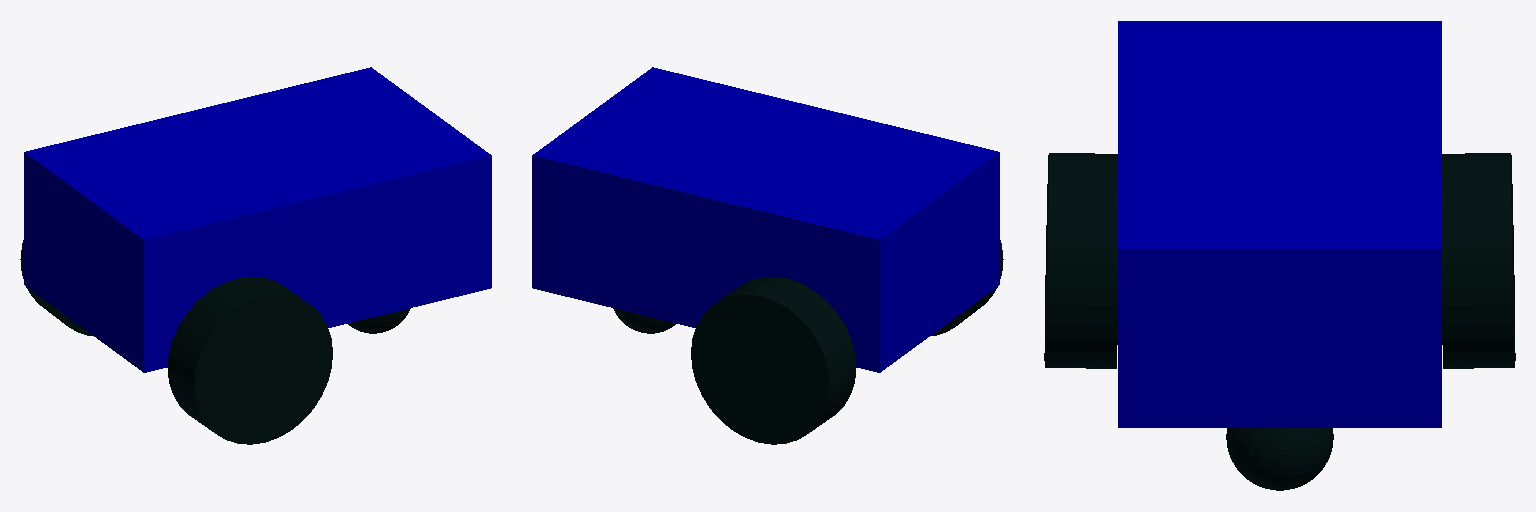
robot.urdf — optimus:
<?xml version="1.0"?>
<robot name="optimus">

    <!-- - - -  -->
    <!-- Colors -->
    <!-- - - -  -->
    <material name="blue">
        <color rgba="0 0 0.7 1" />
    </material>
    <material name="black">
        <color rgba="0.035 0.1 0.1 1" />
    </material>

    <!-- - - - - -->
    <!-- Base -->
    <!-- - - - - -->
    <link name="base_link">
        <origin xyz="0 0 0" rpy="0 0 0" />
    </link>
    
    <!-- - - - - -->
    <!-- Chassis -->
    <!-- - - - - -->
    <link name="chassis_link">
        <visual>
            <geometry>
                <box size=".3 .18 .11" />
            </geometry>
            <origin xyz="0 0 0.055" rpy="0 0 0" />
            <material name="blue" />
        </visual>
        <collision>
            <geometry>
                <box size=".3 .18 .11" />
            </geometry>
            <origin xyz="0 0 0.055" rpy="0 0 0"/>
        </collision>
    </link>
    <joint name="foot_base_joint" type="fixed">
        <parent link="base_link" />
        <child link="chassis_link"/>
        <origin xyz="0 0 0.059" rpy="0 0 0" />
    </joint>

    <!-- - - - - -  -->
    <!-- Left Wheel -->
    <!-- - - - - -  -->
    <link name="left_wheel_link">
        <visual>
            <geometry>
                <cylinder radius="0.06" length="0.04" />
            </geometry>
            <origin xyz="0 0 0" rpy="1.55 0 0" />
            <material name="black" />
        </visual>
    </link>
    <joint name="base_left_wheel_joint" type="continuous">
        <parent link="chassis_link" />
        <child link="left_wheel_link"/>
        <origin xyz="-0.07 -0.11 0" rpy="0 0 0" />
        <axis xyz="0 1 0" />
    </joint>
    
    <!-- - - - - - - -->
    <!-- Right Wheel -->
    <!-- - - - - - - -->
    <link name="right_wheel_link">
        <visual>
            <geometry>
                <cylinder radius="0.06" length="0.04" />
            </geometry>
            <origin xyz="0 0 0" rpy="-1.55 0 0" />
            <material name="black" />
        </visual>
    </link>
    <joint name="base_right_wheel_joint" type="continuous">
        <parent link="chassis_link" />
        <child link="right_wheel_link"/>
        <origin xyz="-0.07 0.11 0" rpy="0 0 0" />
        <axis xyz="0 1 0" />
    </joint>


    <!-- - - - - -  -->
    <!-- - Caster - -->
    <!-- - - - - -  -->
    <link name="caster_wheel_link">
        <visual>
            <geometry>
                <sphere radius="0.03" />
            </geometry>
            <origin xyz="0 0 0" rpy="0 0 0" />
            <material name="black" />
        </visual>
    </link>
    <joint name="base_caster_wheel_joint" type="fixed">
        <parent link="chassis_link" />
        <child link="caster_wheel_link"/>
        <origin xyz=".1 0 -.029" rpy="0 0 0" />
    </joint>
</robot>

--- What the picture shows (computed from the rendered views, not written in the file) ---
Views: 3 orthographic renders of the robot side by side, from view 1: azimuth 30°, elevation 25°; view 2: azimuth 150°, elevation 25°; view 3: azimuth 270°, elevation 25°.
Model optimus with 5 links and 4 joints (2 continuous, 2 fixed), rooted at base_link, posed every joint at zero.
Visible links, largest first — view 1: chassis_link, left_wheel_link, caster_wheel_link, right_wheel_link; view 2: chassis_link, right_wheel_link, caster_wheel_link, left_wheel_link; view 3: chassis_link, left_wheel_link, right_wheel_link, caster_wheel_link.
Link boxes in pixels (x1,y1,x2,y2): chassis_link: (24,67,491,372); left_wheel_link: (168,276,332,444); caster_wheel_link: (348,308,410,333); right_wheel_link: (20,240,92,335); chassis_link: (532,67,999,372); right_wheel_link: (691,276,855,444); caster_wheel_link: (613,308,675,333); left_wheel_link: (931,240,1003,335); chassis_link: (1118,21,1441,427); left_wheel_link: (1044,153,1117,368); right_wheel_link: (1442,153,1515,368); caster_wheel_link: (1226,428,1333,490).
Size in the robot's own frame: 0.3 by 0.2625 by 0.1704 metres.
Geometry: primitives only (box / cylinder / sphere), no mesh files.